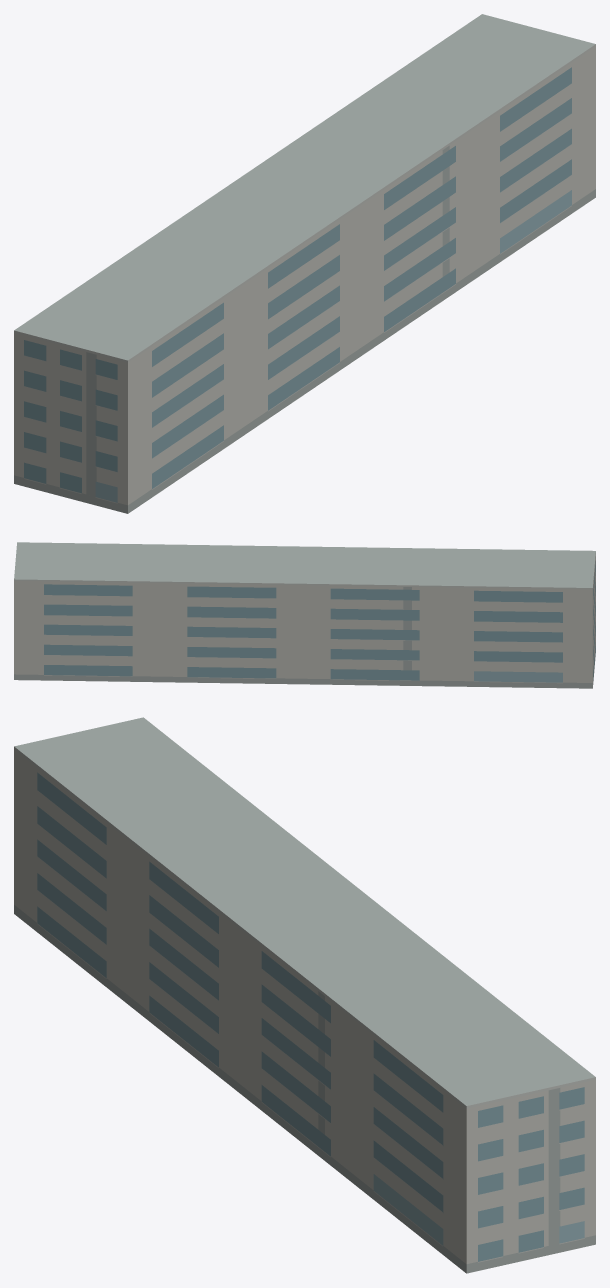
Rendered from residential-f1bfa46c-ea63-46ca-a765-e53e961f7186.glb.
3 views of the same model, one above another, from view 1: azimuth 30°, elevation 25°; view 2: azimuth 150°, elevation 25°; view 3: azimuth 270°, elevation 25° (orthographic). The views are drawn at different scales.
Visible parts, largest first — view 1: residential-f1bfa46c-ea63-46ca-a765-e53e961f7186.tmp; view 2: residential-f1bfa46c-ea63-46ca-a765-e53e961f7186.tmp; view 3: residential-f1bfa46c-ea63-46ca-a765-e53e961f7186.tmp.
Part boxes in pixels (x1=…): residential-f1bfa46c-ea63-46ca-a765-e53e961f7186.tmp: x1=14, y1=14, x2=595, y2=513; residential-f1bfa46c-ea63-46ca-a765-e53e961f7186.tmp: x1=14, y1=542, x2=595, y2=688; residential-f1bfa46c-ea63-46ca-a765-e53e961f7186.tmp: x1=14, y1=717, x2=595, y2=1273.
Bounding box in the file's own units: 75.94 × 15.25 × 48.03.
